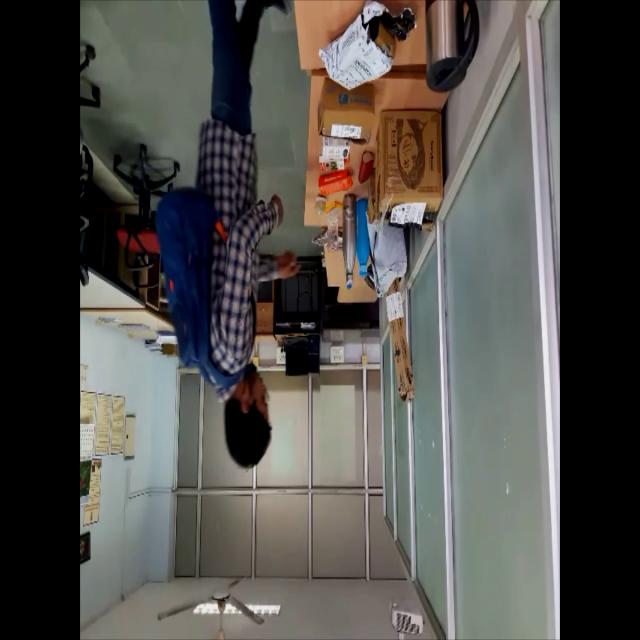normal: (157, 88, 239, 474)
